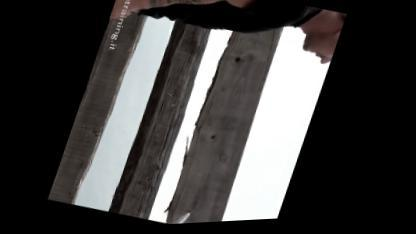knife: (152, 200, 202, 226)
